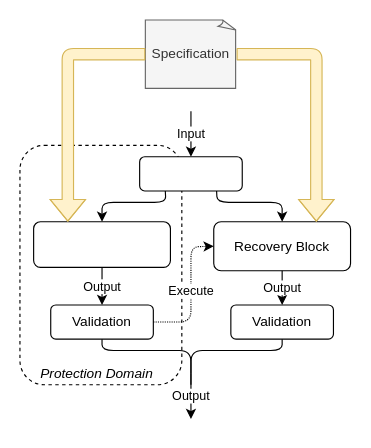
The diagram is 371 pixels wide and 448 high, and some of its shapes have lost their labels. The shapes that lost their labels are listed below. From the top down, each one's centre as x and y in pixels, then its label:
At point (190, 173): "Replication".
At point (101, 244): "(Sub-) System".
